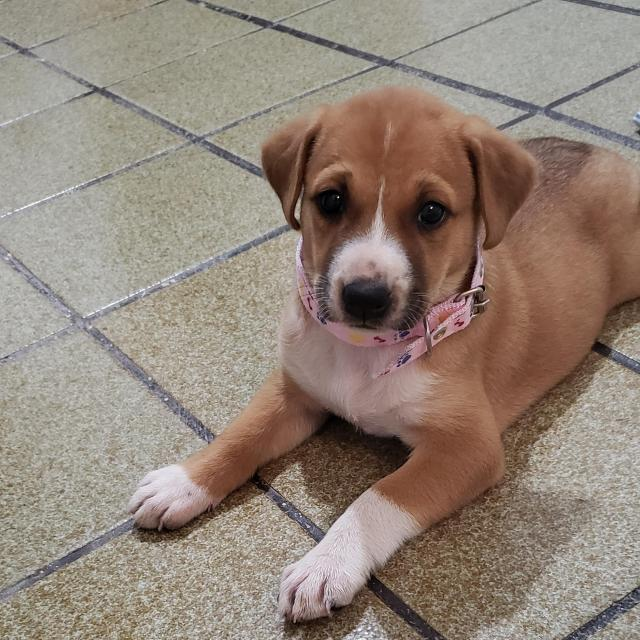laying down: (127, 87, 640, 624)
